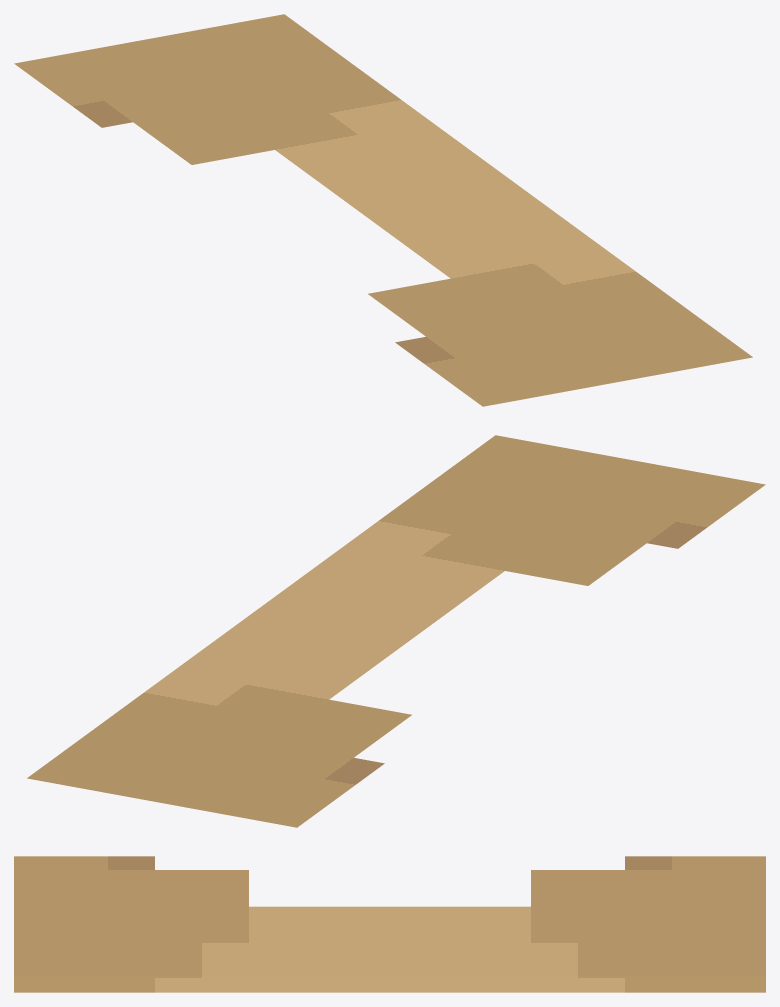
The picture shows the model from 3 angles, top to bottom: view 1: azimuth 30°, elevation 25°; view 2: azimuth 150°, elevation 25°; view 3: azimuth 270°, elevation 25°; orthographic projection. The views are drawn at different scales.
Size of the model in its own units: 0.3486 by 0.0373 by 1.
Materials: 1 (1 with a texture image).
